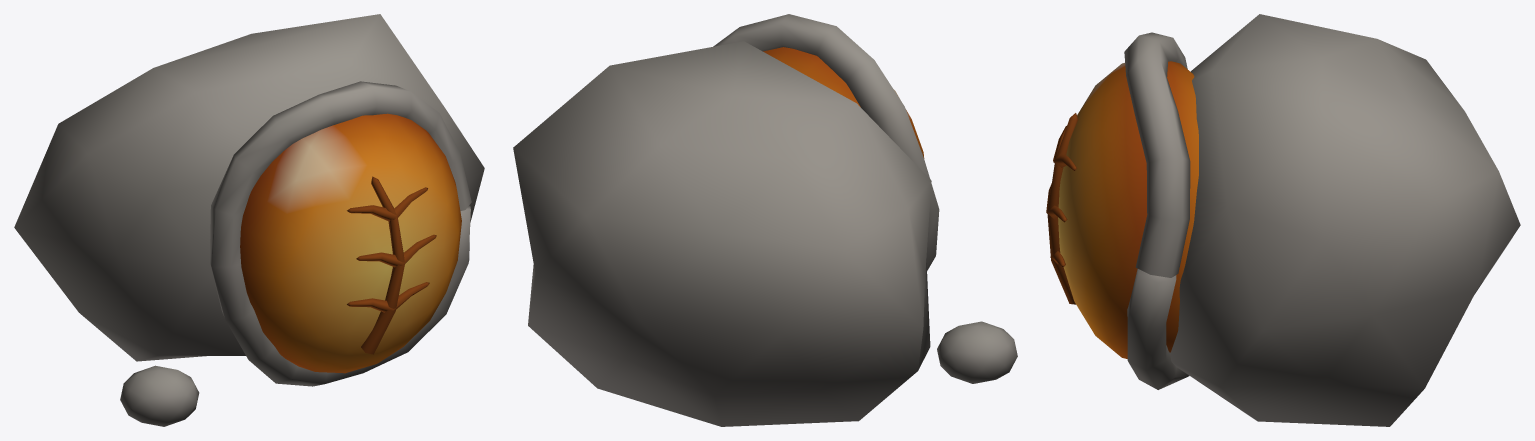
The model's file is food_amber_v3_a.fbx.
The picture shows the model from 3 angles, left to right: view 1: azimuth 30°, elevation 25°; view 2: azimuth 150°, elevation 25°; view 3: azimuth 270°, elevation 25°; orthographic projection. The views are drawn at different scales.
Parts seen in each view (by area): view 1: food_amber_v3_a; view 2: food_amber_v3_a; view 3: food_amber_v3_a.
Boxes of the visible parts, x1,y1,x2,y2 form: food_amber_v3_a: (14,14,484,426); food_amber_v3_a: (513,14,1017,426); food_amber_v3_a: (1046,14,1520,426).
Size of the model in its own units: 165 by 114 by 150.
